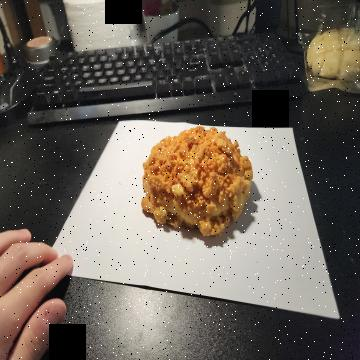soboru_bread: (141, 128, 256, 240)
